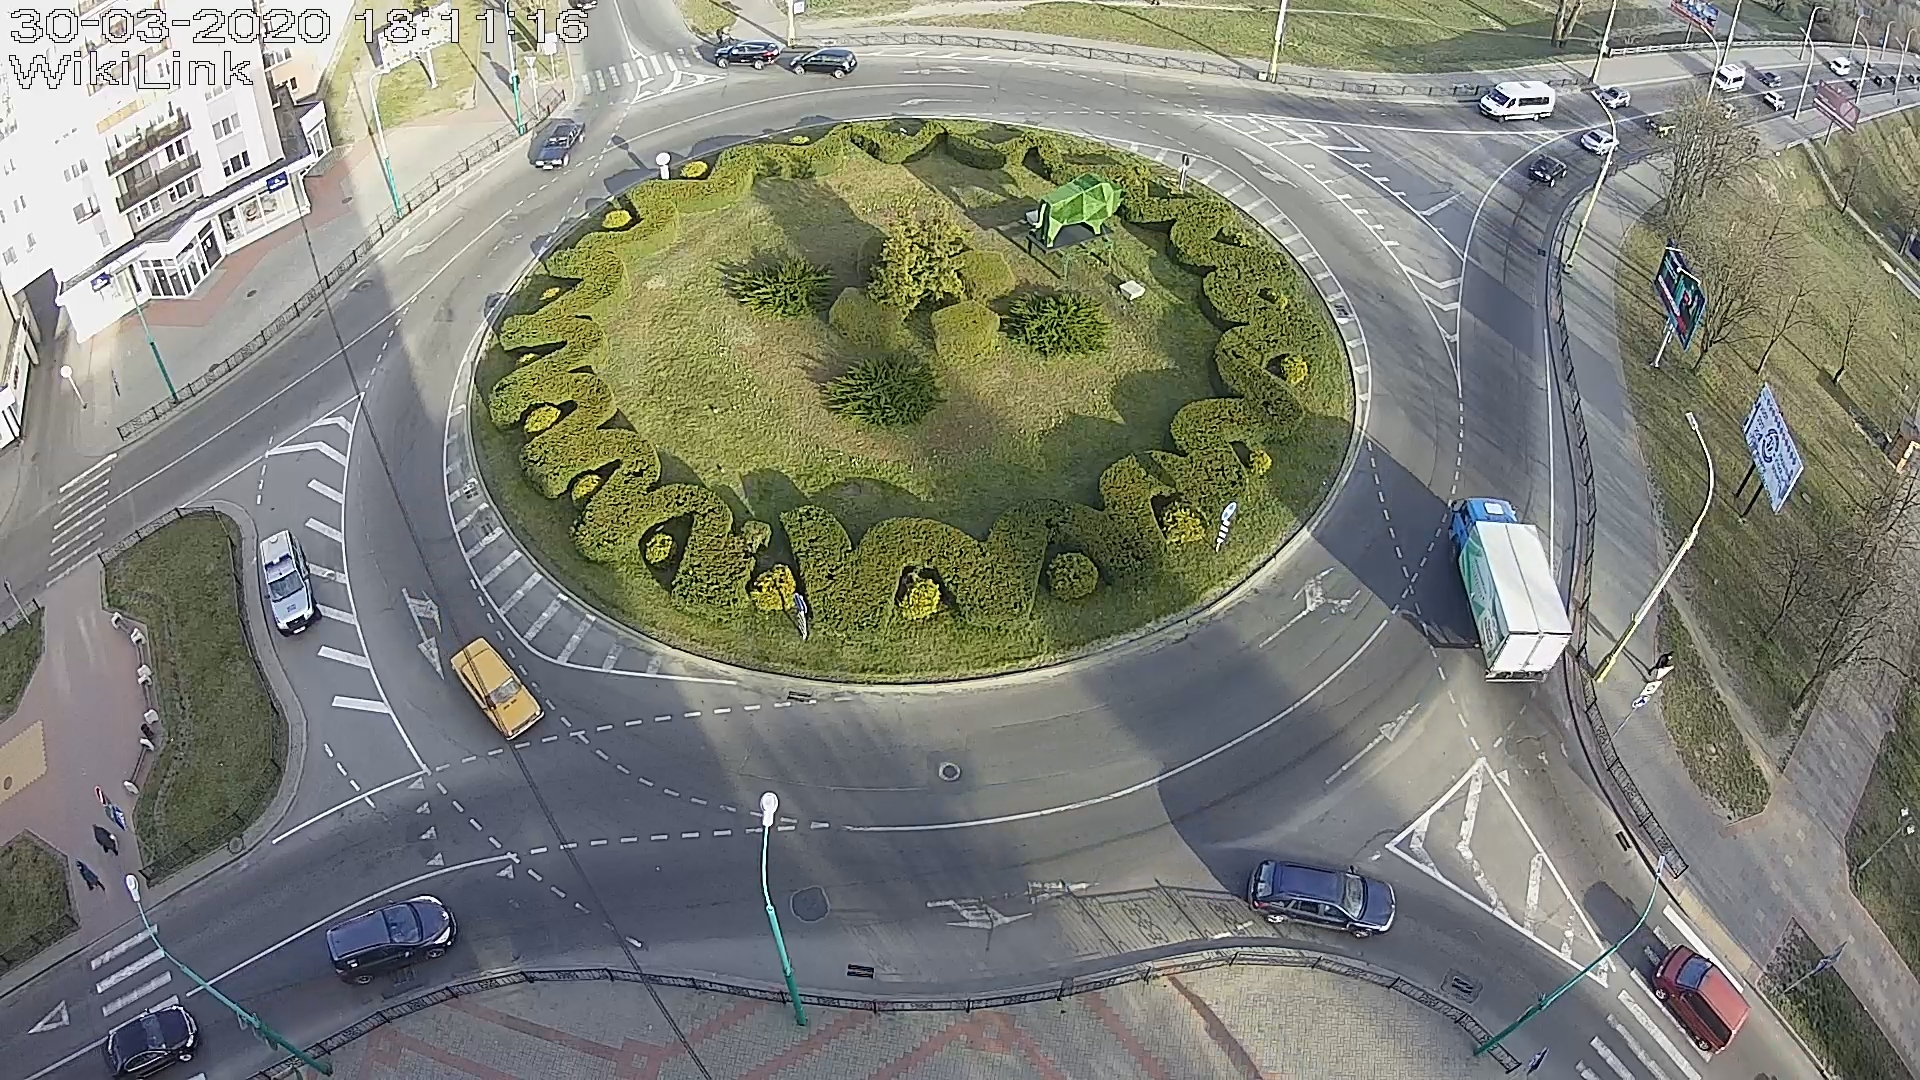car: (1443, 496, 1572, 684), (324, 894, 458, 985), (1247, 858, 1396, 939), (1652, 944, 1751, 1054), (450, 636, 545, 741), (99, 1005, 198, 1080), (258, 527, 322, 637), (1478, 80, 1556, 124), (535, 121, 585, 170), (789, 47, 858, 79), (713, 40, 781, 70), (1528, 152, 1569, 187), (1580, 127, 1619, 156), (1600, 87, 1631, 109)
